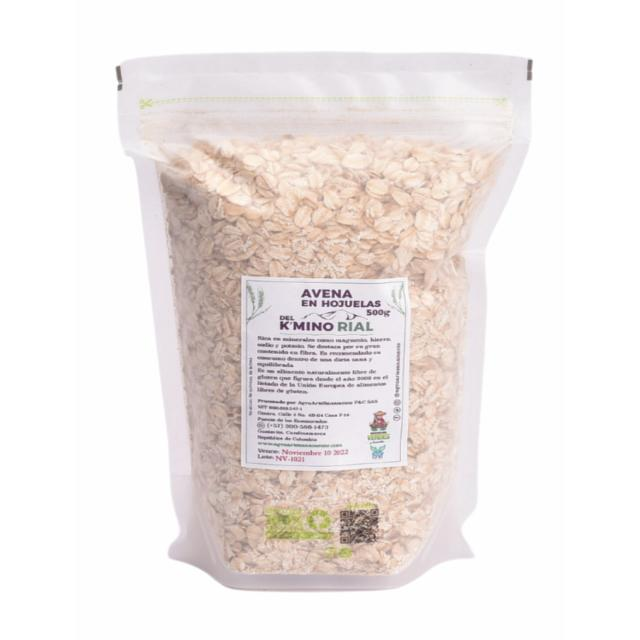avena: (168, 141, 458, 270)
